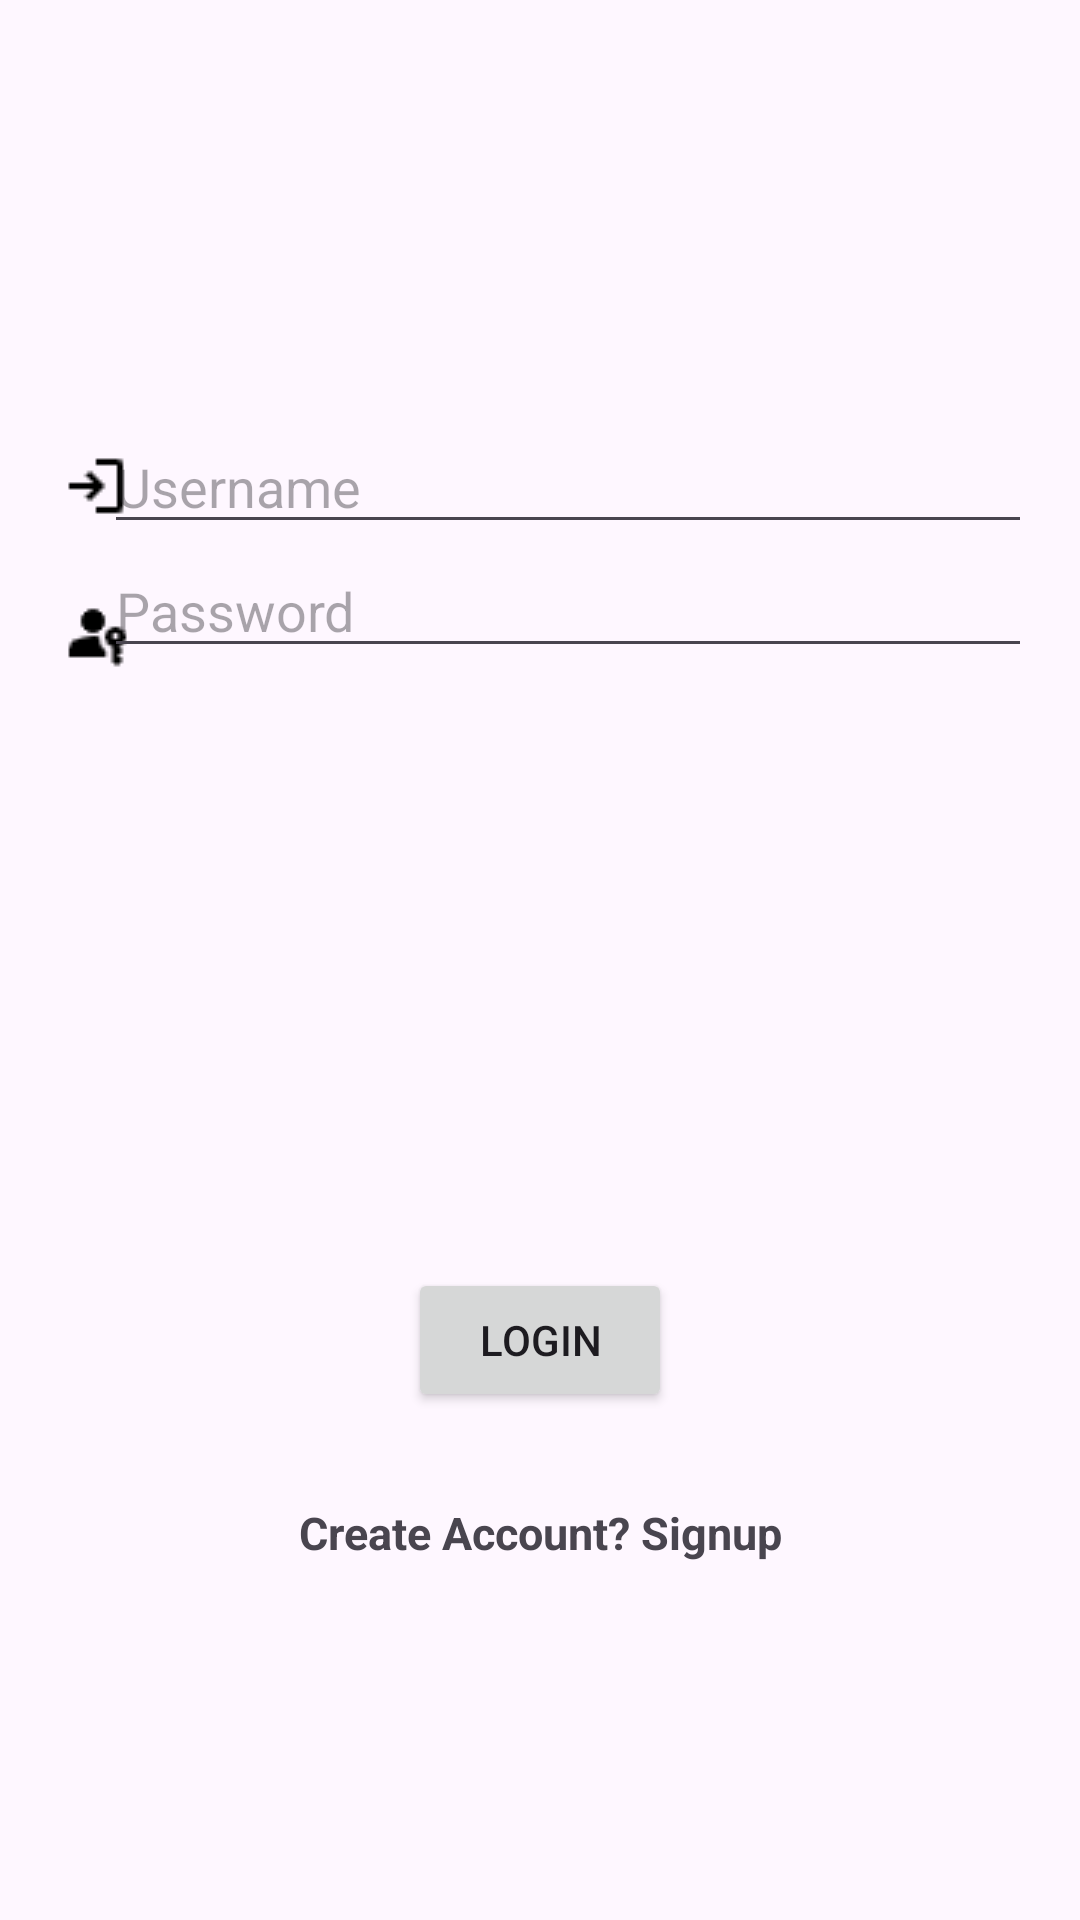

Screen size 1080px×1920px. Icon name, then its center in pixels as [x,y]:
login: [100,489]
